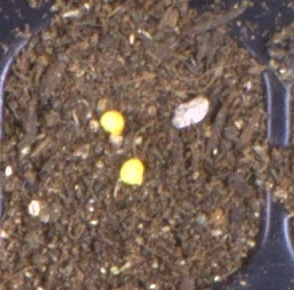chilli seed: (118, 158, 145, 186), (99, 110, 124, 136)
